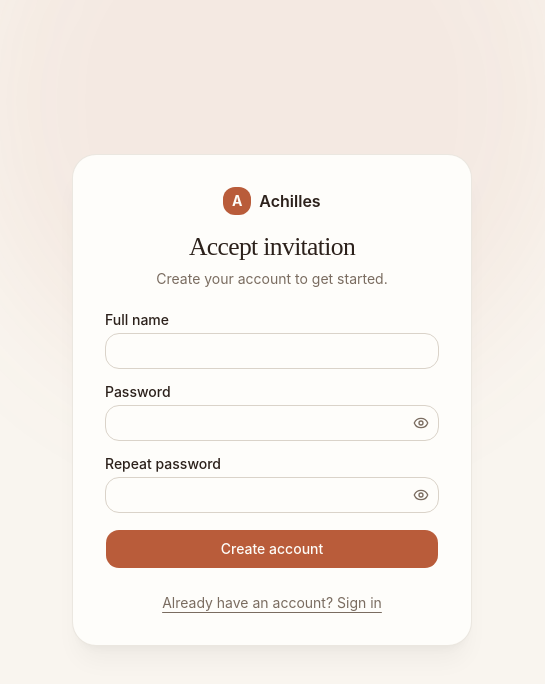
InviteAcceptPage › routes an already-registered email to sign in
Type "New Member" into the field labelled "Full name". click: x=272, y=351
box: x1=105 y1=333 x2=439 y2=369
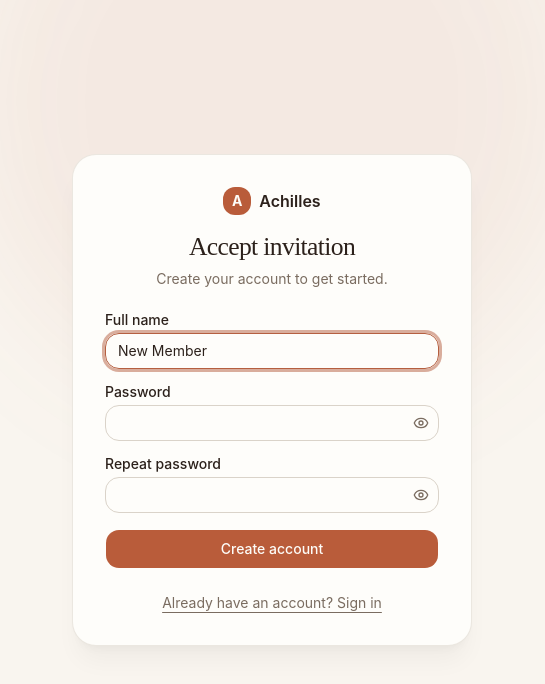
Type "a-fresh-passphrase-2026" into the password field labelled "Password". click: x=272, y=423
box: x1=105 y1=405 x2=439 y2=441
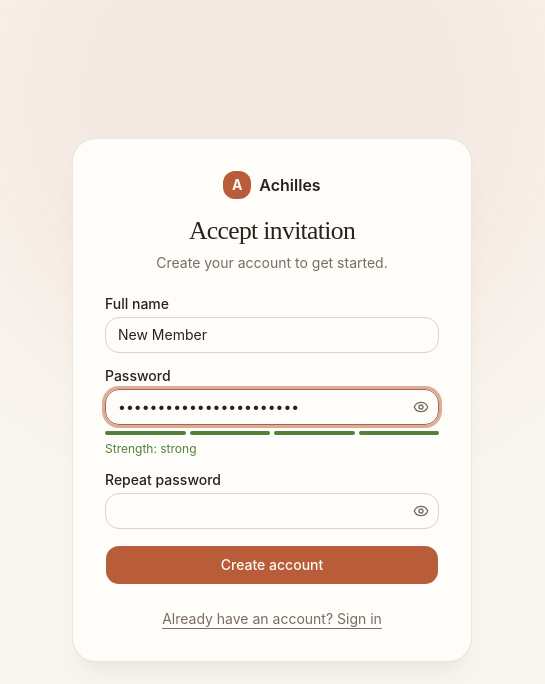
Type "a-fresh-passphrase-2026" into the password field labelled "Repeat password". click: x=272, y=511
box: x1=105 y1=493 x2=439 y2=529
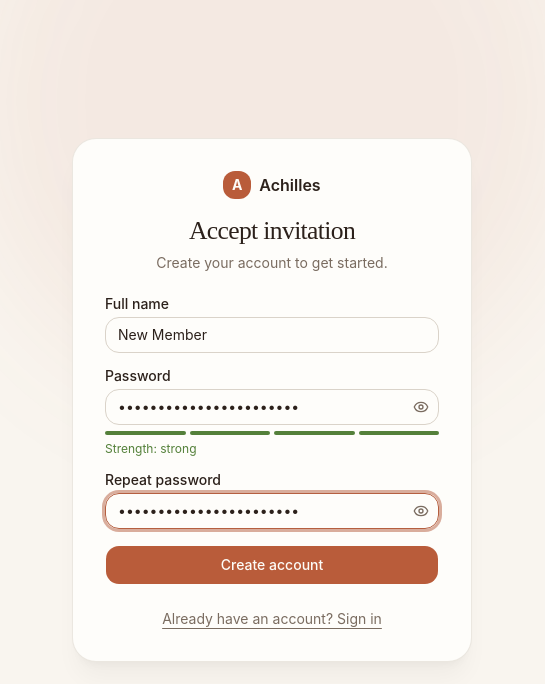
Click the button "Create account". click: x=272, y=565
box: x1=105 y1=545 x2=439 y2=585
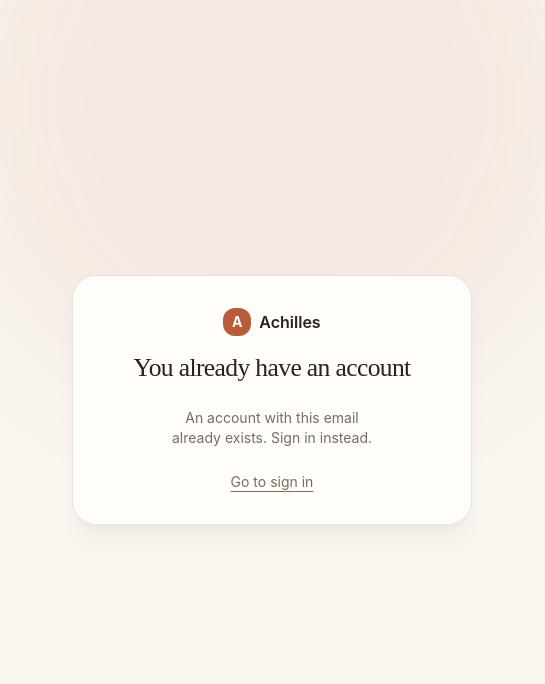
Expected: the heading "You already have an account" is shown, x1=133 y1=352 x2=411 y2=384
Expected: the text "An account with this email already exists. Sign in instead." is shown, x1=172 y1=409 x2=372 y2=446
Expected: the link "Go to sign in" is shown, x1=231 y1=473 x2=313 y2=490
